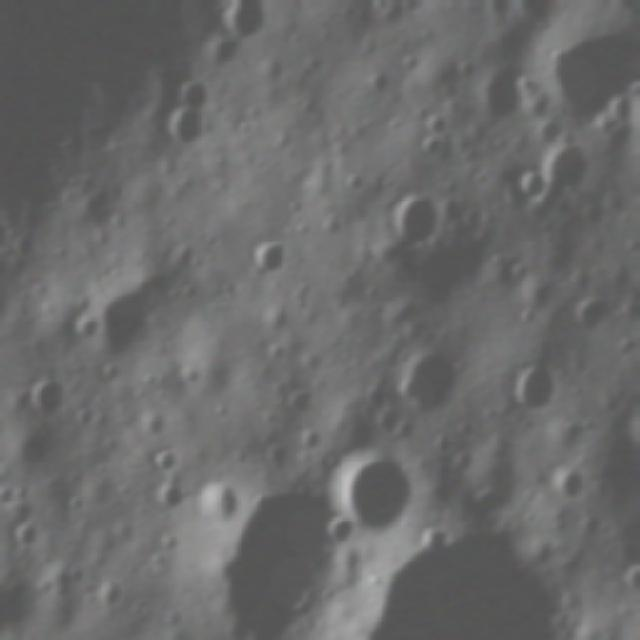crater: (527, 2, 636, 122), (341, 447, 427, 531), (86, 274, 162, 366), (389, 336, 465, 422), (471, 64, 537, 128), (382, 186, 446, 251), (242, 225, 293, 290), (510, 356, 561, 410), (570, 285, 616, 341), (22, 369, 67, 422), (195, 474, 239, 523), (550, 458, 592, 504), (148, 478, 194, 519), (167, 110, 210, 150), (7, 511, 44, 555), (326, 509, 366, 548), (512, 163, 554, 200), (174, 73, 215, 110), (282, 380, 321, 418), (148, 436, 188, 473), (207, 36, 242, 76), (95, 574, 128, 611), (418, 132, 448, 165), (429, 103, 456, 132)
